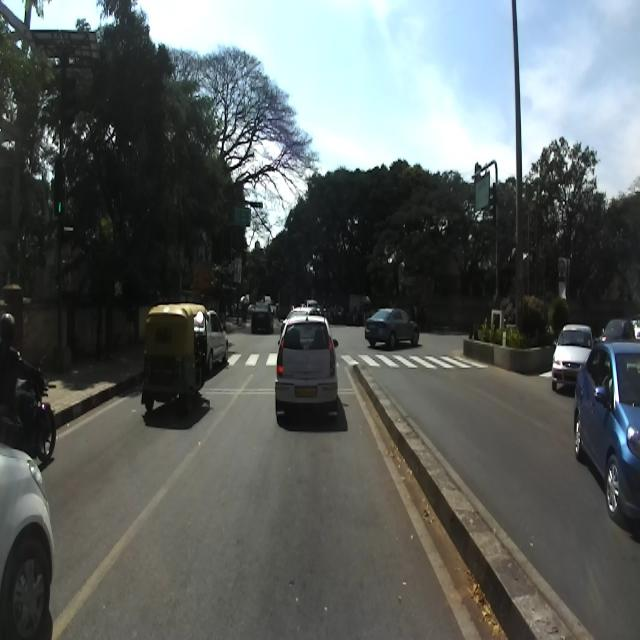Car_Honda: (573, 341, 639, 522)
Car_TATA: (275, 312, 338, 422)
autorickshaw: (141, 303, 209, 414)
motorcycle_Hero: (0, 358, 53, 463)
